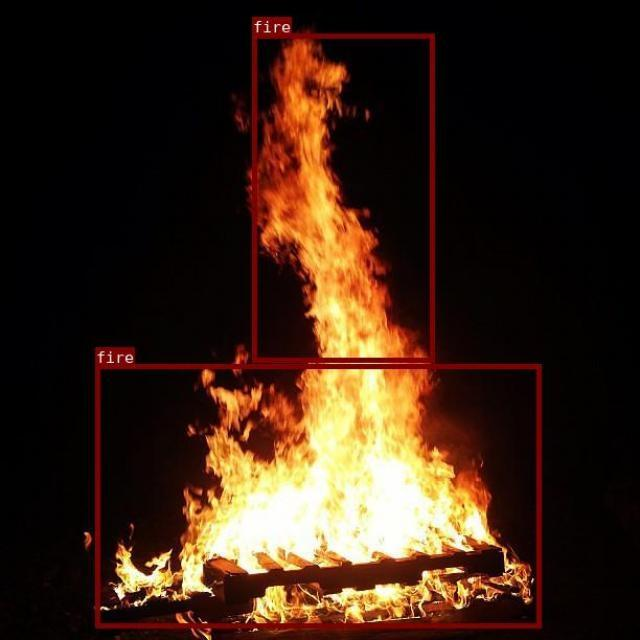fire: (94, 363, 540, 626), (252, 33, 433, 361)
